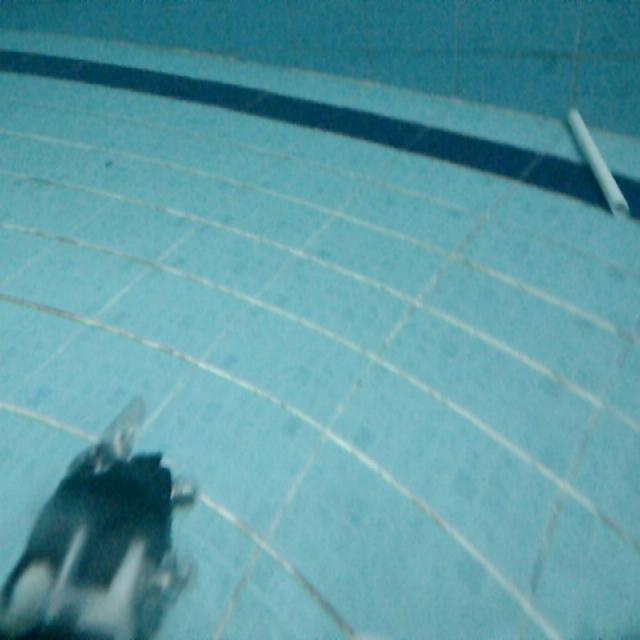Cube: (562, 105, 632, 225)
